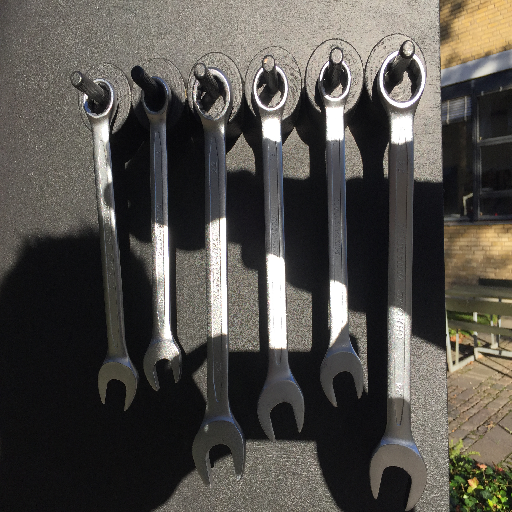bottom: (365, 435, 432, 512), (191, 419, 249, 489), (255, 375, 306, 443), (318, 349, 365, 408), (94, 355, 140, 411), (144, 338, 184, 392)
top: (375, 49, 427, 112), (189, 67, 233, 124), (251, 63, 290, 116), (80, 77, 120, 124), (317, 56, 351, 107), (138, 75, 174, 119)
